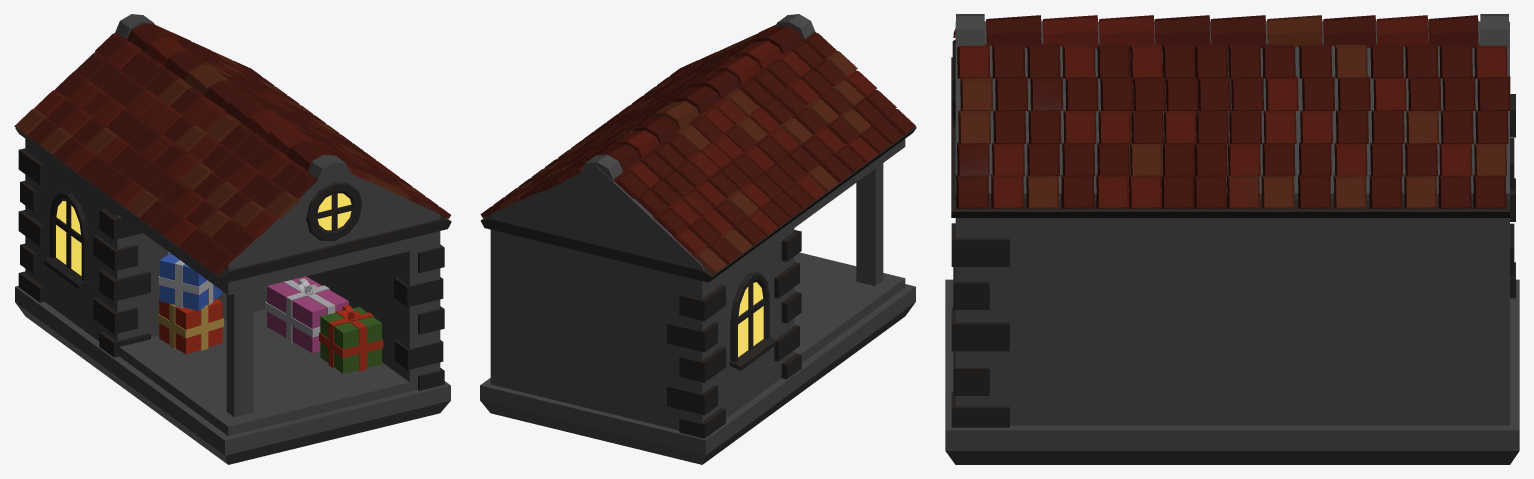
File: Building_01.glb
The picture shows the model from 3 angles, left to right: view 1: azimuth 30°, elevation 25°; view 2: azimuth 150°, elevation 25°; view 3: azimuth 270°, elevation 25°; orthographic projection. The views are drawn at different scales.
Parts seen in each view (by area): view 1: Cube; view 2: Cube; view 3: Cube.
Part boxes in pixels (x1=…): Cube: x1=14, y1=14, x2=451, y2=464; Cube: x1=480, y1=14, x2=916, y2=464; Cube: x1=945, y1=14, x2=1519, y2=464.
Bounding box in the file's own units: 1.35 × 1.5 × 2.07.
2 materials, 1 textured.
